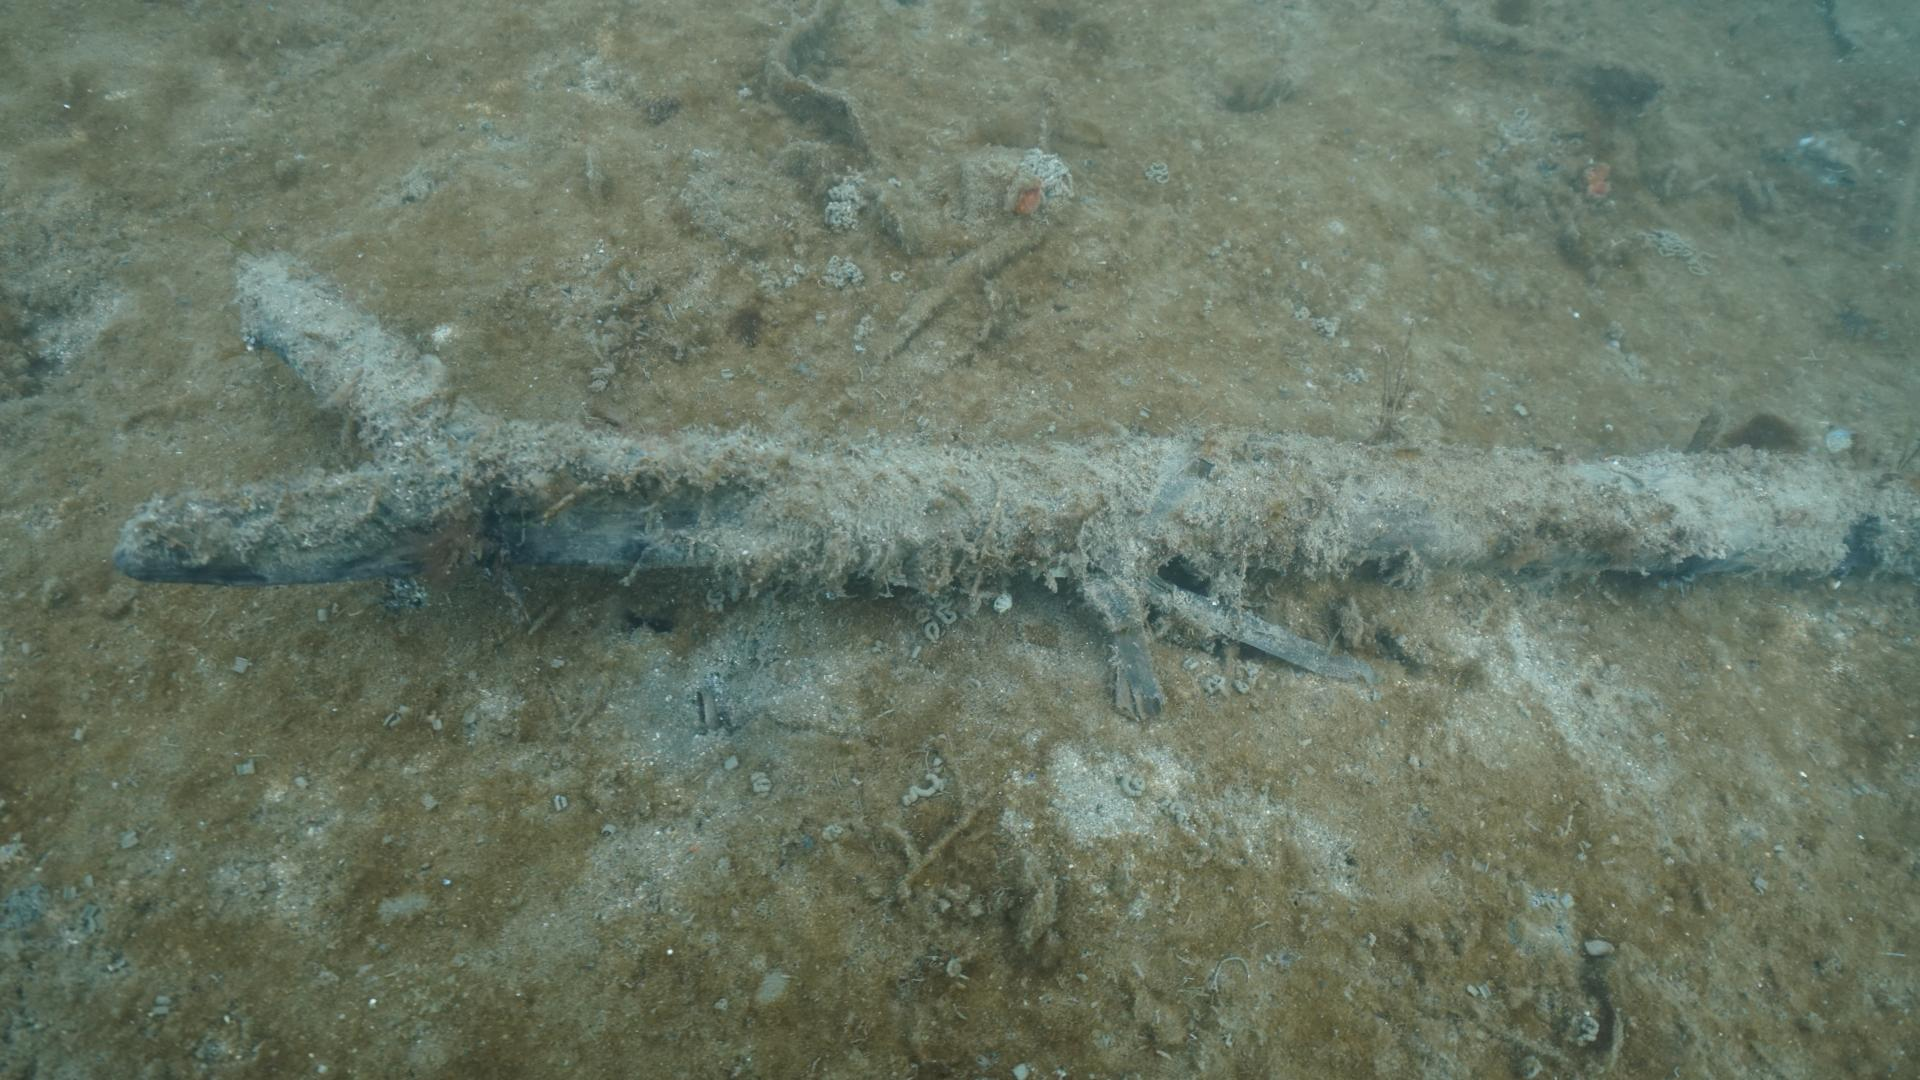wood: (117, 251, 1920, 582)
